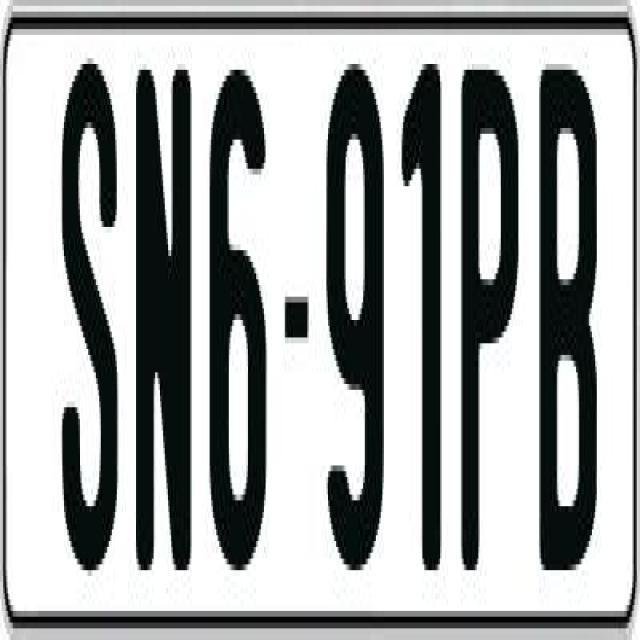1: (396, 64, 438, 576)
6: (205, 52, 268, 553)
9: (326, 58, 384, 576)
B: (536, 58, 597, 594)
N: (133, 52, 197, 588)
P: (461, 58, 524, 594)
S: (58, 58, 119, 564)
